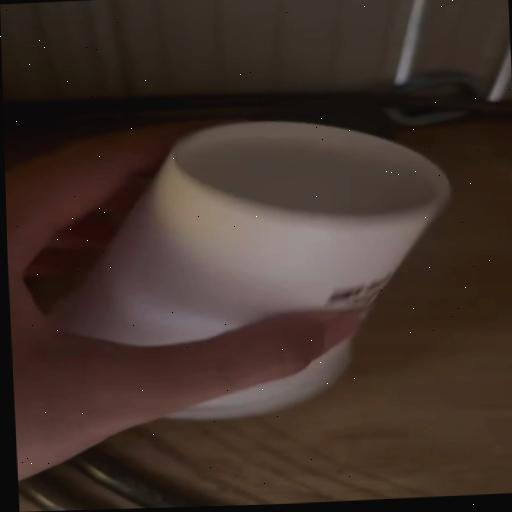Ly_giay: (51, 121, 449, 346), (170, 339, 350, 420)
